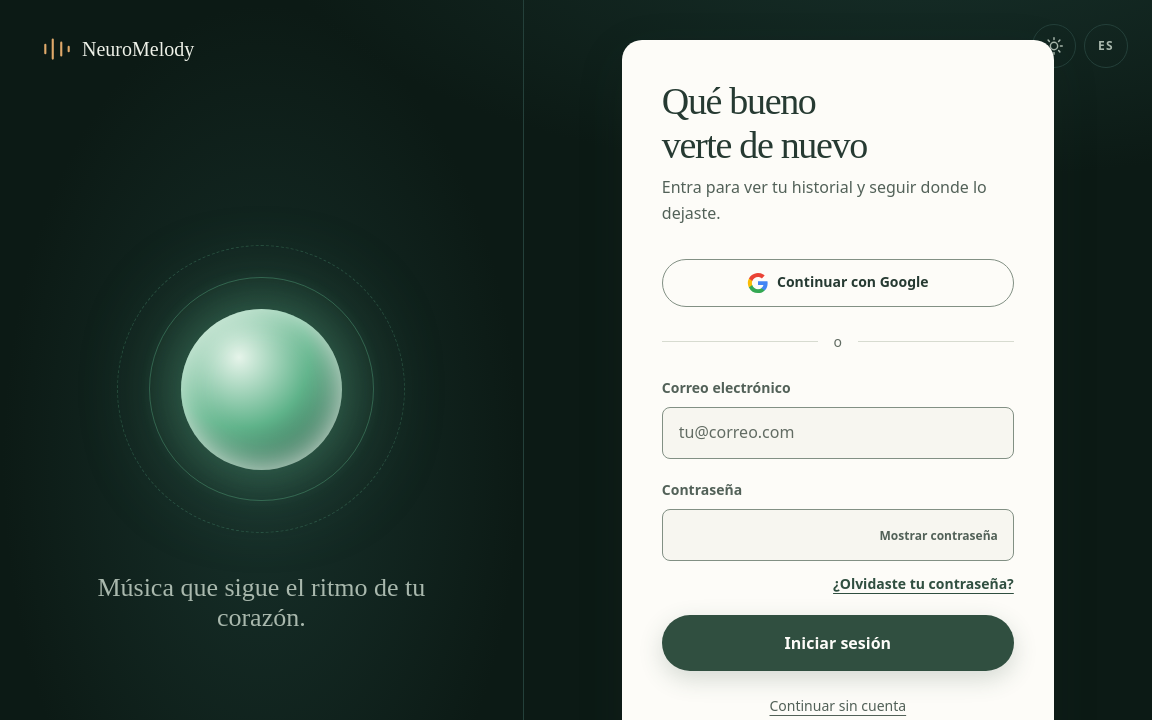
Test case: sign-in screens › explains that Google is not available instead of leaving the page
The image size is (1152, 720).
What coordinates should you click on to do the following:
click the button "Continuar con Google"
I would click on:
 (838, 283)
Its box is [662,259,1014,307].
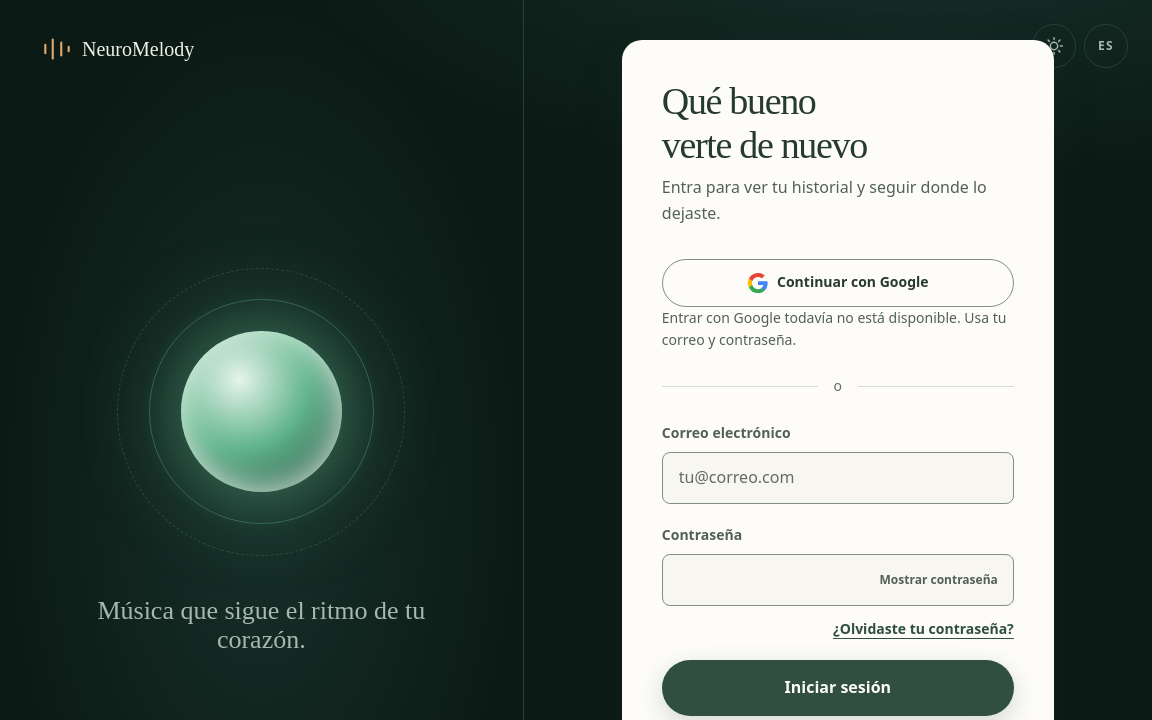
Expected: the text "Entrar con Google todavía no está disponible. Usa tu correo y contraseña." is shown, [662,307,1014,351]
